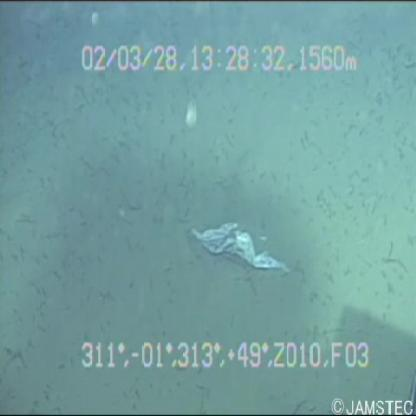Rác: (178, 189, 300, 289)
